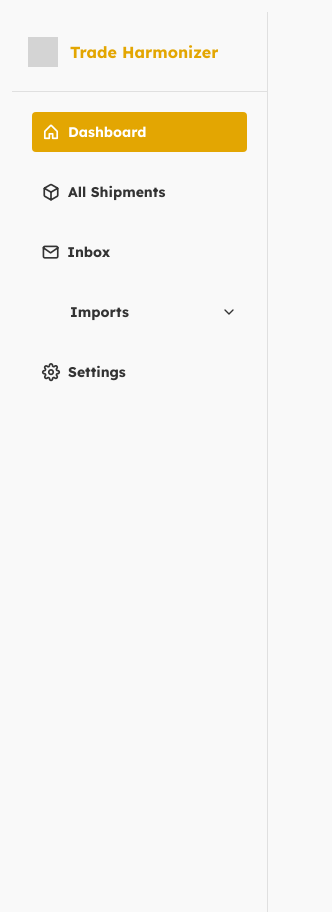
Scenario: AppSidebar — Imports group › opens when clicked from a route outside the group
Expected: the button "Import Jobs" is not shown
Click the button "Imports" at (140, 312), box [32, 292, 247, 332]
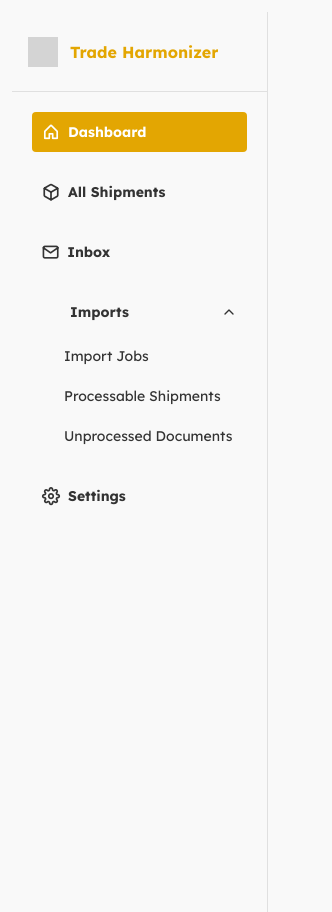
Expected: the button "Import Jobs" is shown, [32, 336, 247, 376]
Expected: the button "Processable Shipments" is shown, [32, 376, 247, 416]
Expected: the button "Unprocessed Documents" is shown, [32, 416, 247, 456]
